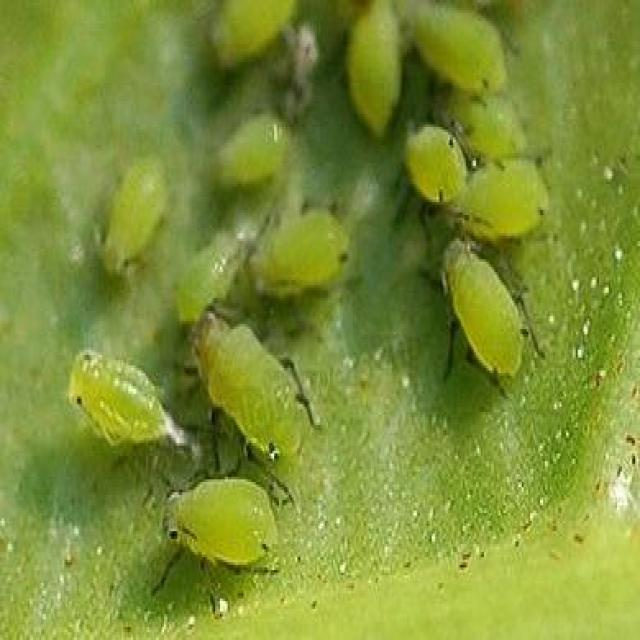Aphids: (126, 442, 308, 608), (175, 304, 341, 475), (415, 198, 548, 408), (70, 297, 188, 476)
